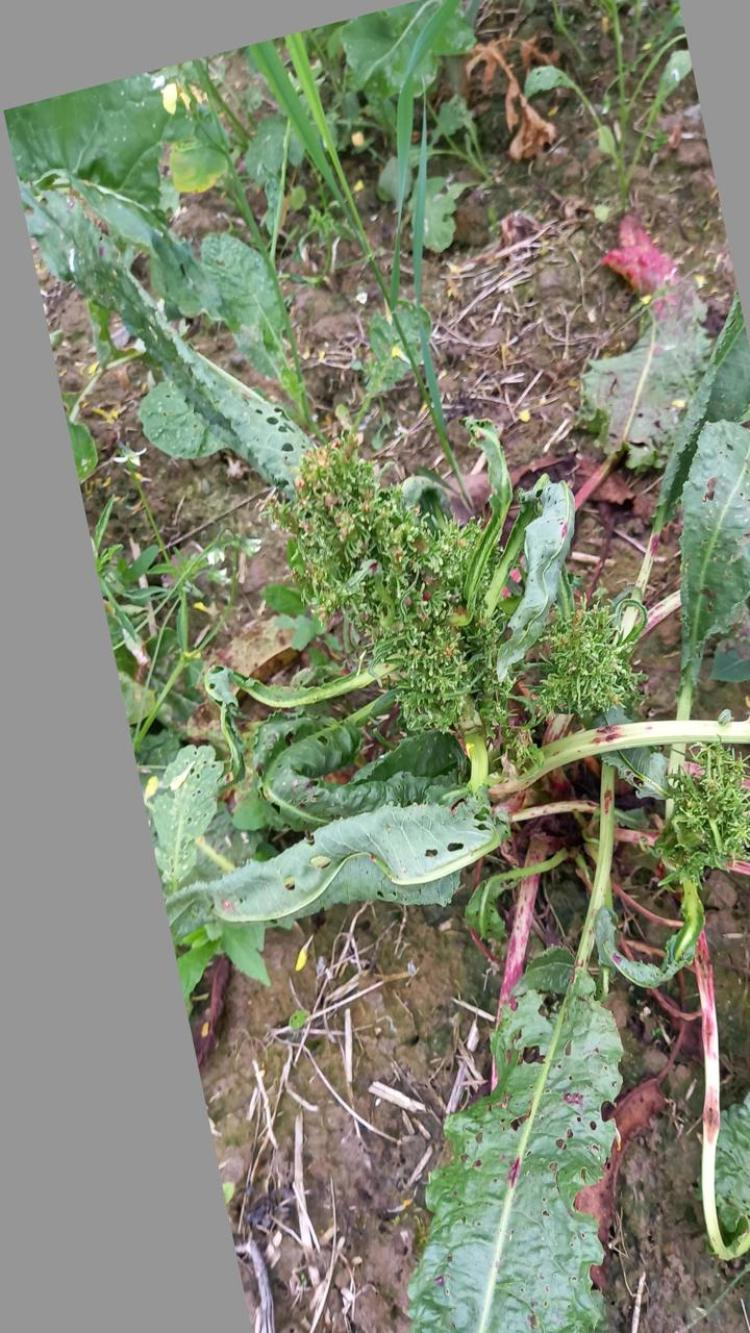zhavel: (181, 308, 750, 1333)
